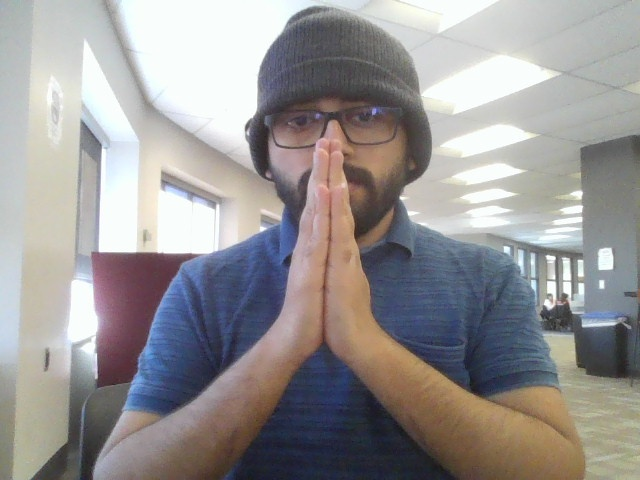start: (264, 130, 401, 376)
